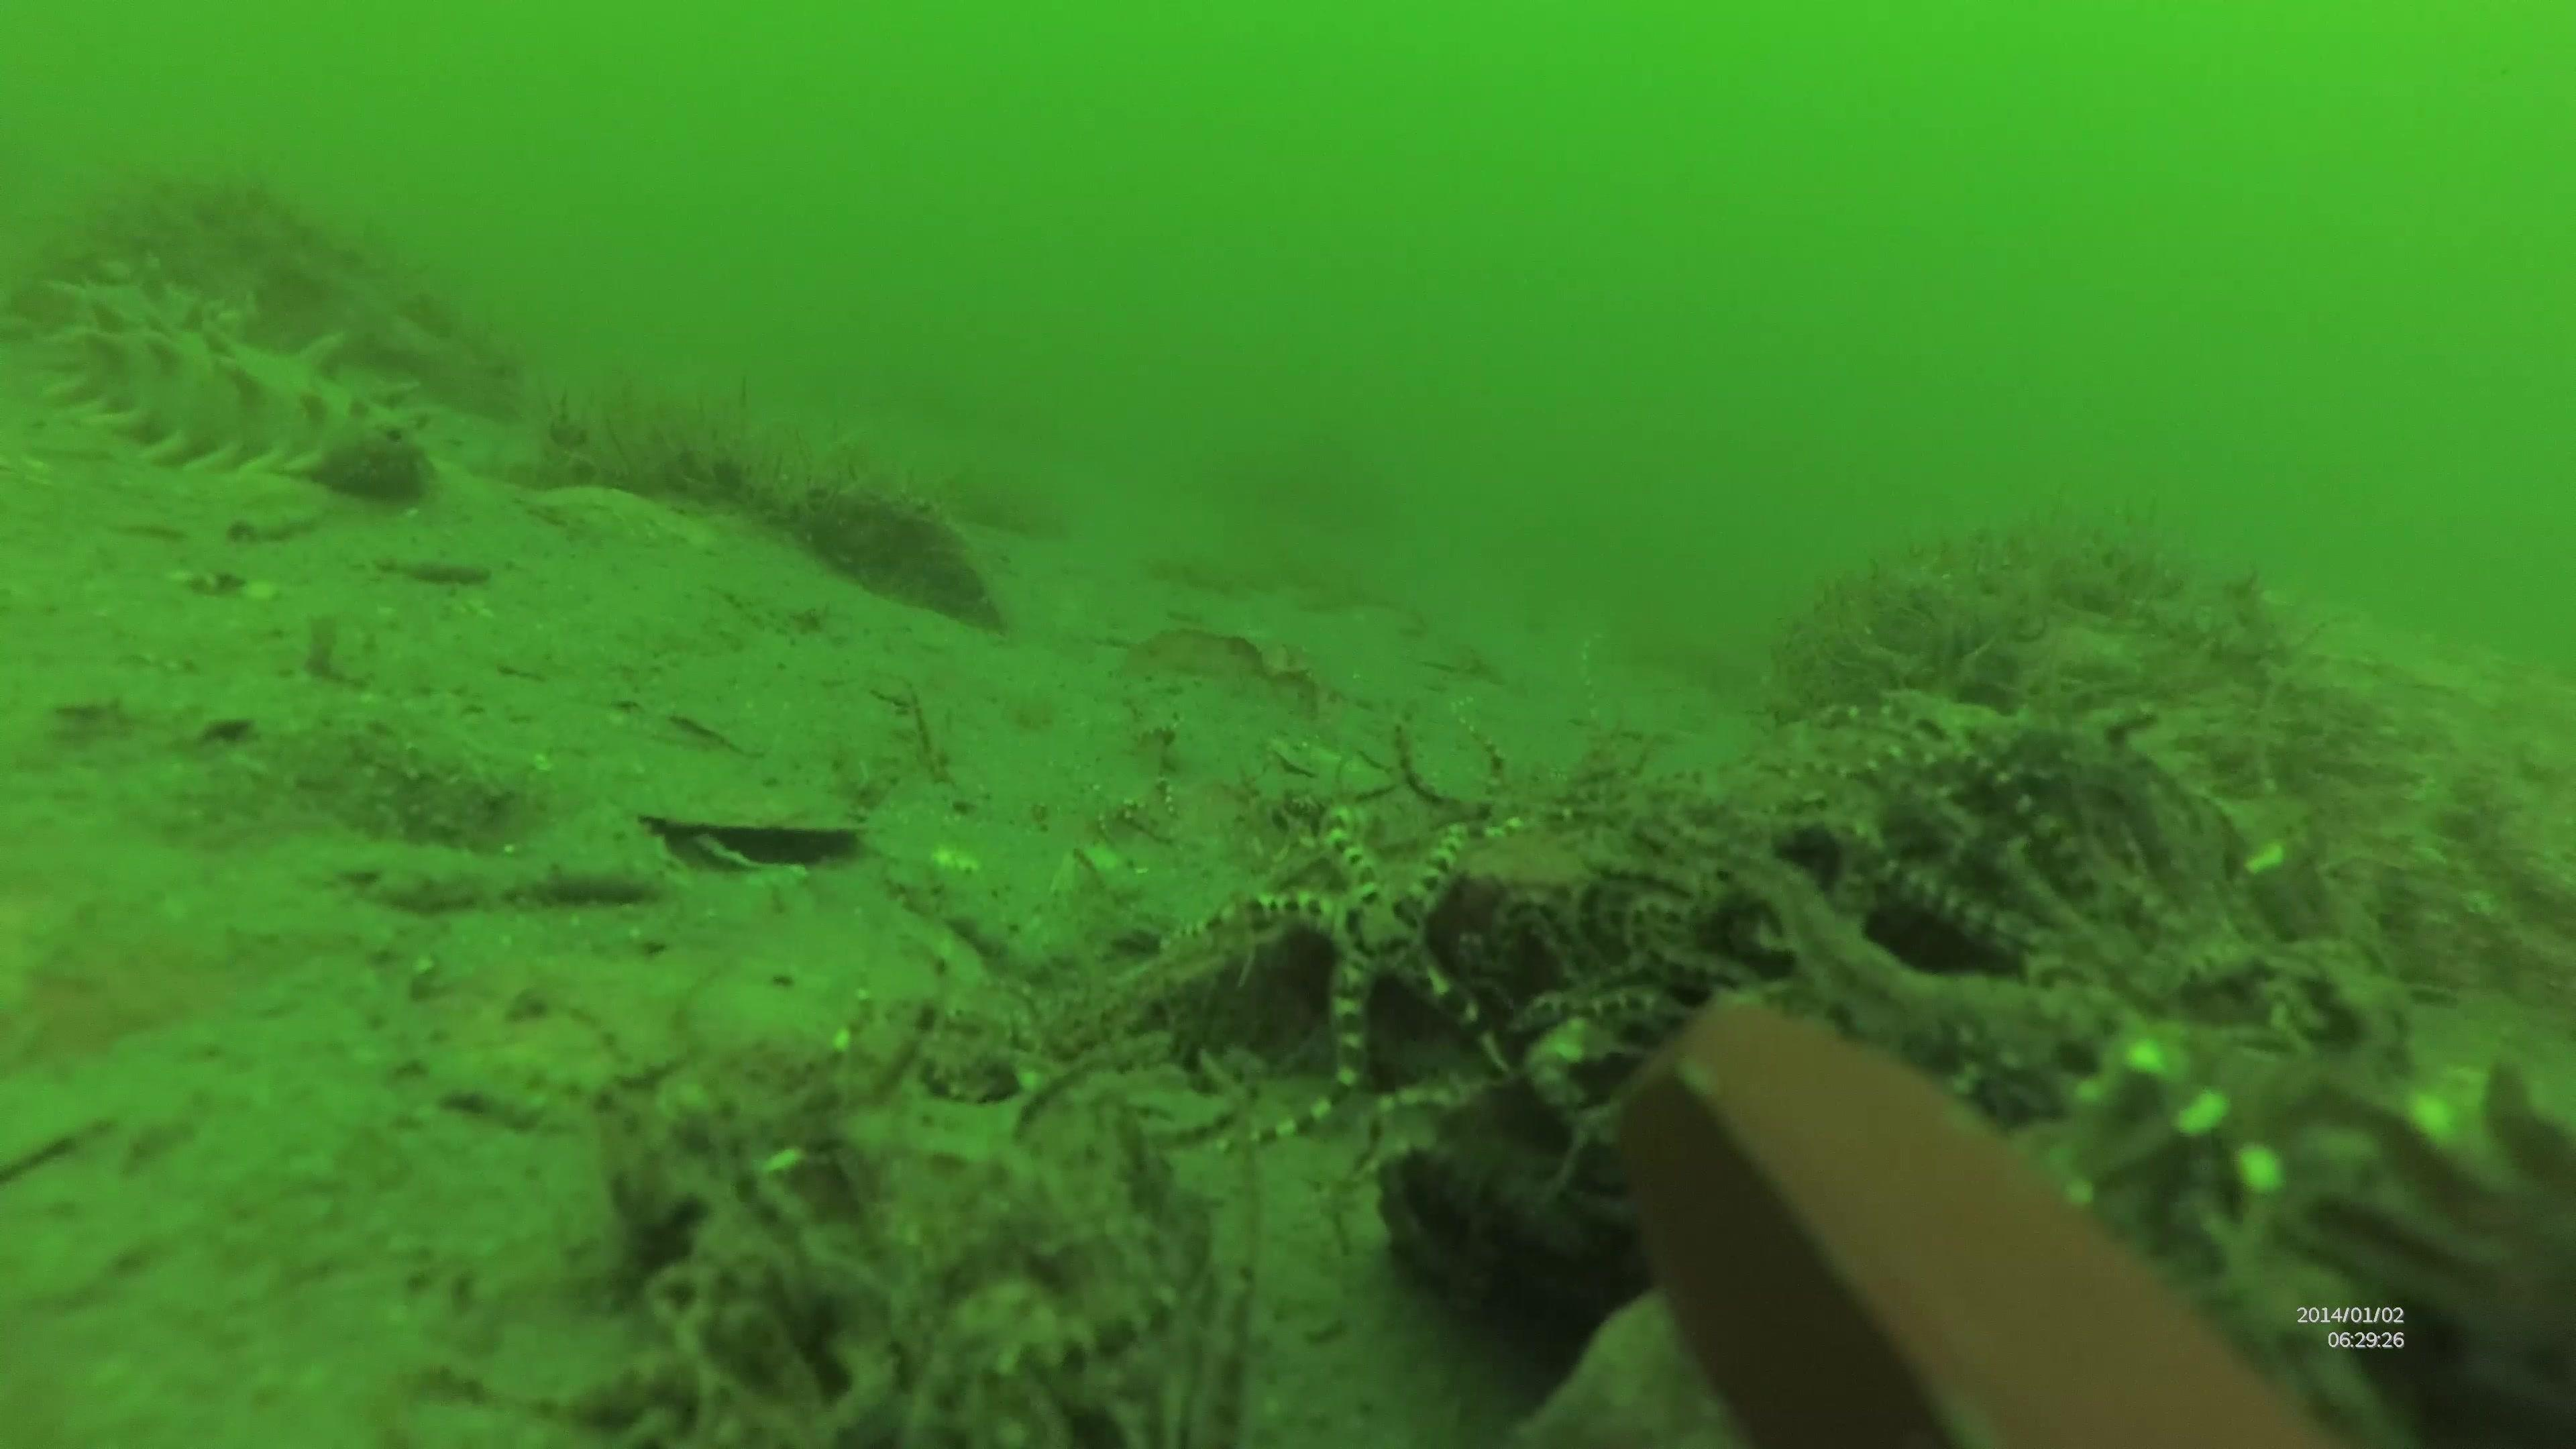holothurian: (48, 255, 442, 487)
scallop: (525, 481, 713, 557)
